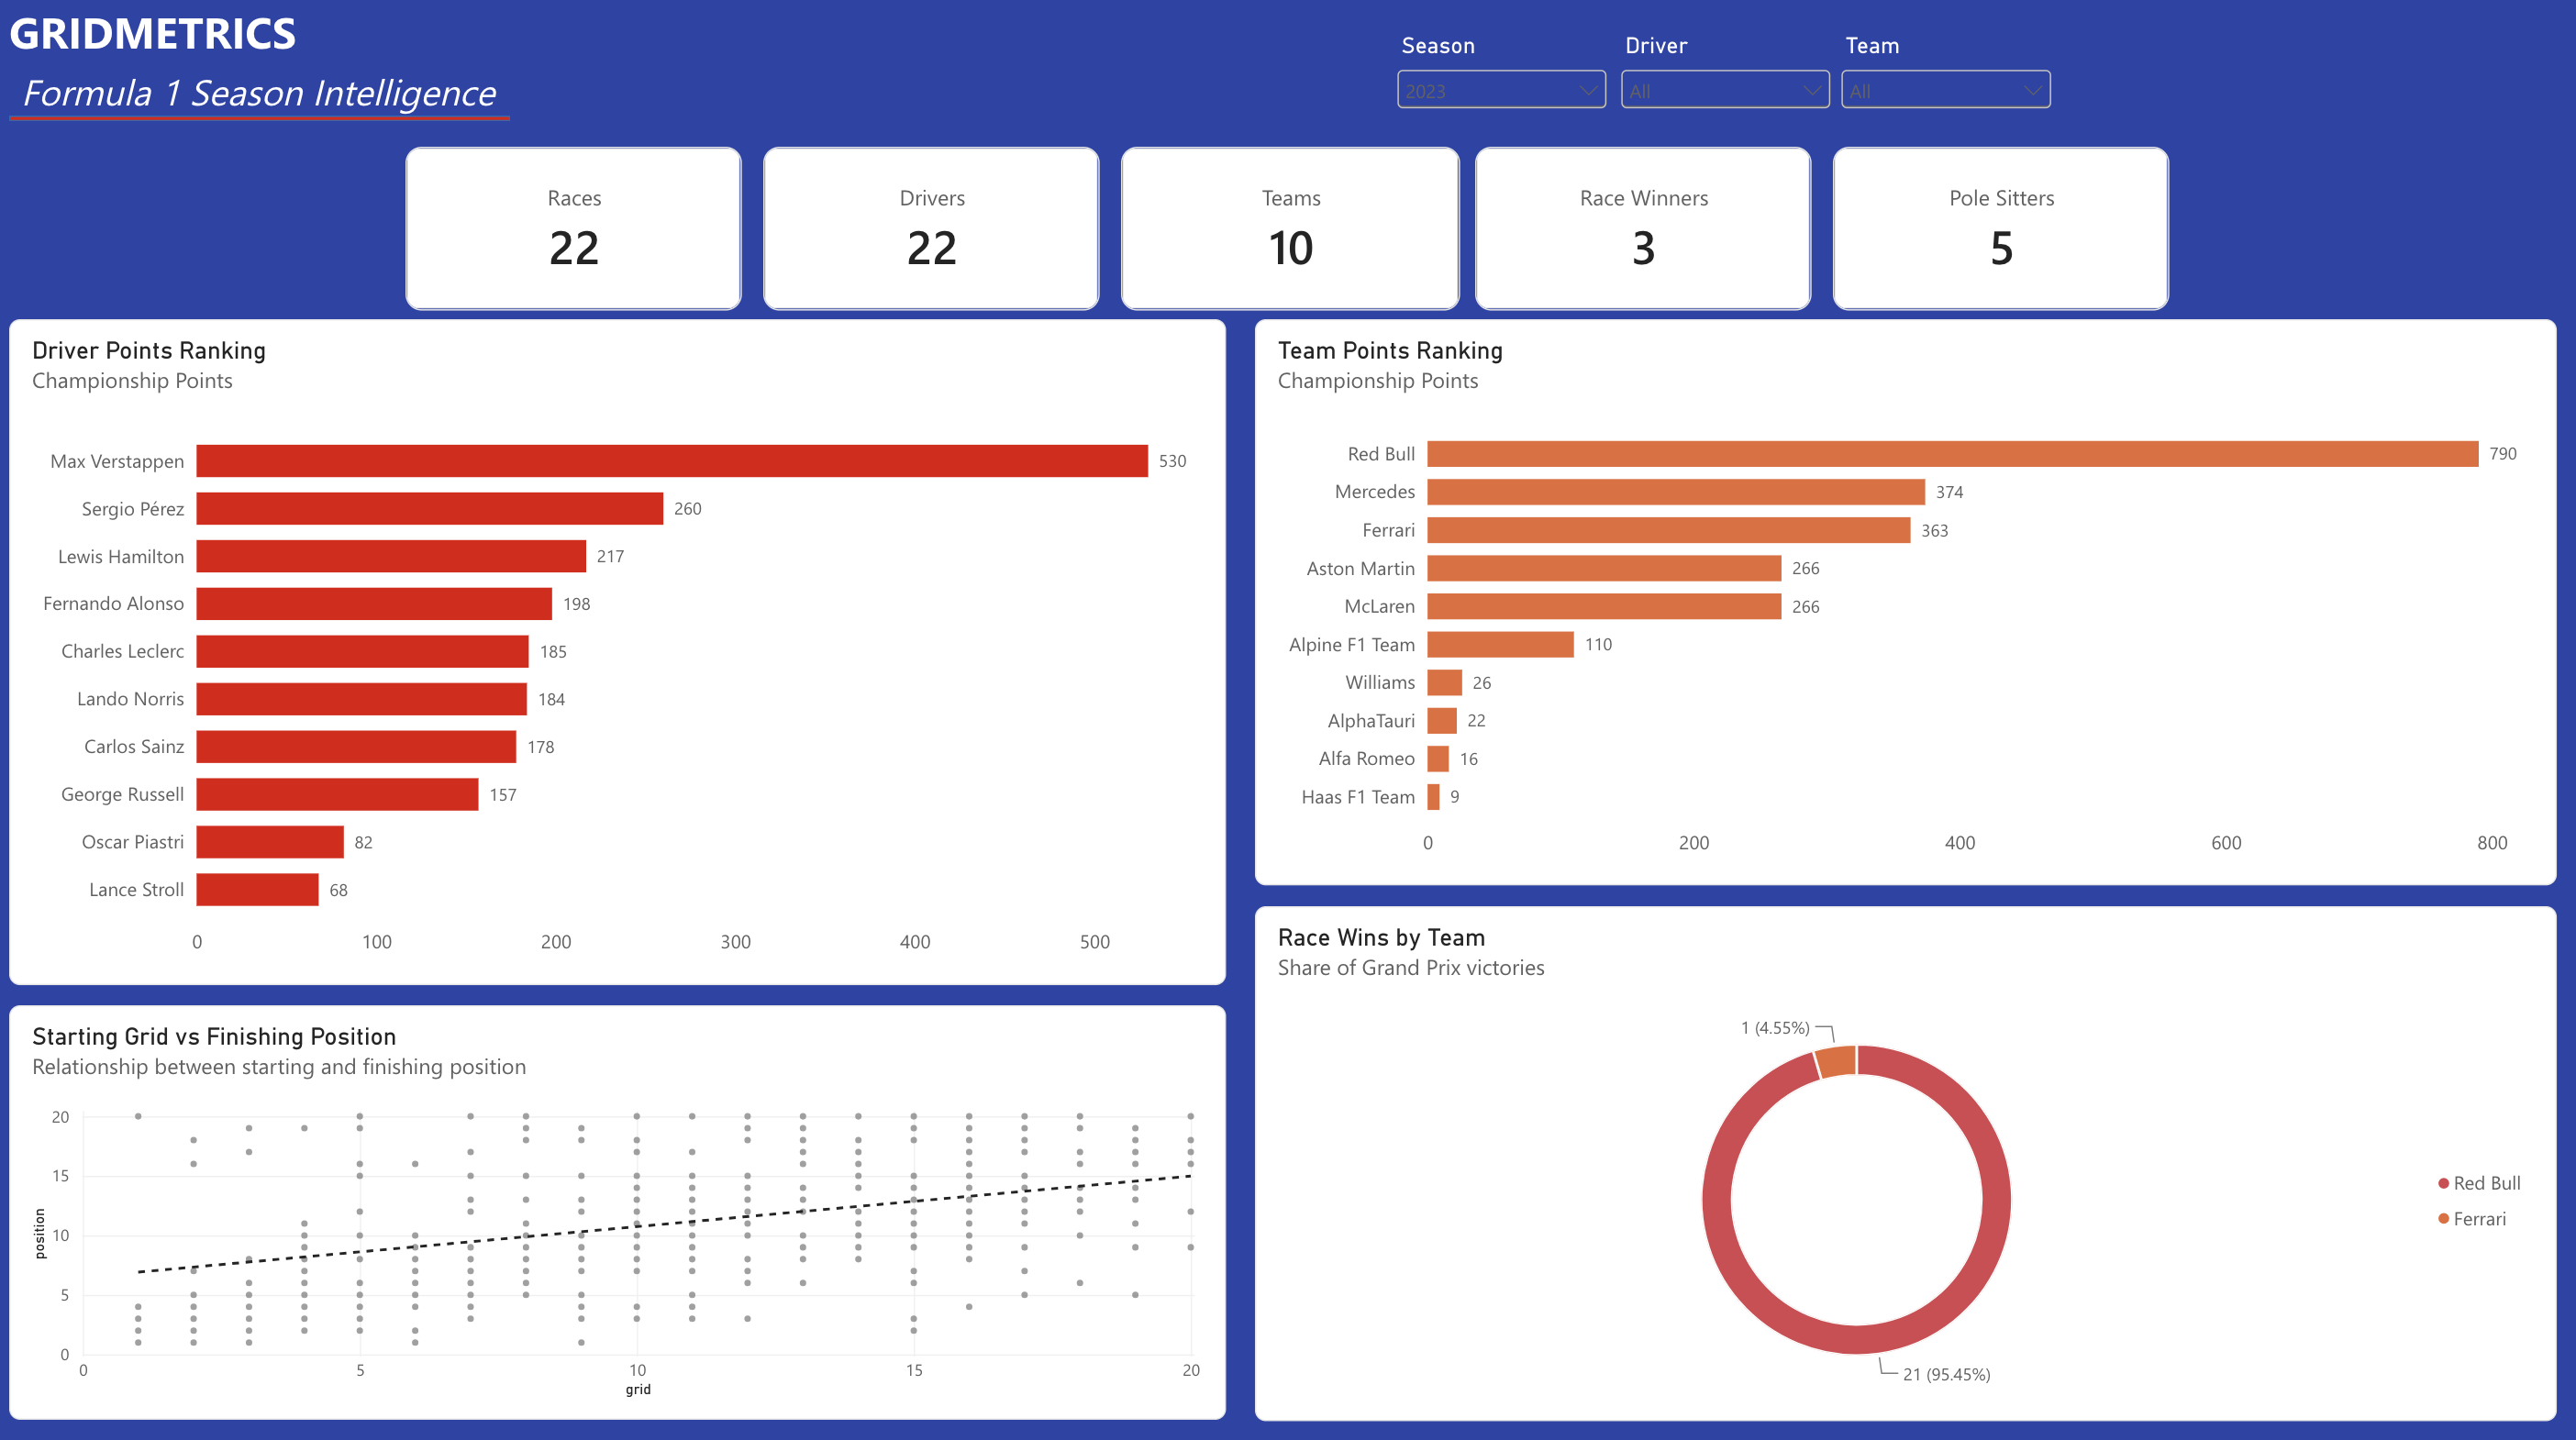

What the dashboard file says about the page in this screenshot:
{"tool":"powerbi","page":{"name":"Page 1","canvas":[1920,1080],"ordinal":0},"visuals":[{"type":"textbox","box":[10.7,5.4,509.5,101.9],"z":0},{"type":"slicer","fields":{"Values":["races.season"]},"box":[1035.7,30,165.1,80],"z":1000},{"type":"slicer","fields":{"Values":["race_results.driverName"]},"box":[1201,30,165,80],"z":2000},{"type":"slicer","fields":{"Values":["race_results.constructorName"]},"box":[1365,30,165.3,80],"z":3000},{"type":"cardVisual","fields":{"Data":["Count(races.raceName)"]},"box":[305.4,112.3,249.3,121.3],"z":4000},{"type":"cardVisual","fields":{"Data":["Count(race_results.constructorName)"]},"box":[835.4,112.3,251.5,121.3],"z":5000},{"type":"cardVisual","fields":{"Data":["race_results.Pole Sitters New"]},"box":[1363.1,112.3,249.3,121.3],"z":6000},{"type":"cardVisual","fields":{"Data":["Count(race_results.driverName)"]},"box":[570.4,112.3,249.3,121.3],"z":7000},{"type":"cardVisual","fields":{"Data":["constructors 1.Race Winners"]},"box":[1098.1,112.3,249.3,121.3],"z":8000},{"type":"clusteredBarChart","title":"Driver Points Ranking","fields":{"Category":["race_results.driverName"],"Y":["Sum(race_results.points)"]},"box":[11.2,240.3,902.7,494],"z":9000},{"type":"clusteredBarChart","title":"Team Points Ranking","fields":{"Category":["race_results.constructorName"],"Y":["Sum(race_results.points)"]},"box":[934.2,240.3,965.6,419.9],"z":10000},{"type":"scatterChart","title":"Starting Grid vs Finishing Position","fields":{"X":["race_results.grid"],"Y":["race_results.position"]},"box":[11.2,750,902.7,307.6],"z":11000},{"type":"donutChart","title":"Race Wins by Team","fields":{"Category":["race_results.constructorName"],"Y":["race_results.Race Wins"]},"box":[934.2,675.9,965.6,381.8],"z":12000},{"type":"shape","box":[10.6,89.2,371.7,4.2],"z":12001}]}

Visuals, with their boxes in screenshot pixels (x1, y1, x2, y2), scaled from the page's 1920x1080 canvas onto the 2576x1440 screenshot:
textbox: <region>15, 7, 698, 143</region>
slicer - races.season: <region>1390, 40, 1611, 147</region>
slicer - race_results.driverName: <region>1611, 40, 1833, 147</region>
slicer - race_results.constructorName: <region>1831, 40, 2053, 147</region>
cardVisual - Count(races.raceName): <region>410, 150, 744, 312</region>
cardVisual - Count(race_results.constructorName): <region>1121, 150, 1459, 312</region>
cardVisual - race_results.Pole Sitters New: <region>1829, 150, 2163, 312</region>
cardVisual - Count(race_results.driverName): <region>765, 150, 1100, 312</region>
cardVisual - constructors 1.Race Winners: <region>1473, 150, 1808, 312</region>
"Driver Points Ranking" clusteredBarChart: <region>15, 320, 1227, 979</region>
"Team Points Ranking" clusteredBarChart: <region>1253, 320, 2548, 881</region>
"Starting Grid vs Finishing Position" scatterChart: <region>15, 1000, 1227, 1410</region>
"Race Wins by Team" donutChart: <region>1253, 902, 2548, 1411</region>
shape: <region>15, 119, 513, 125</region>
